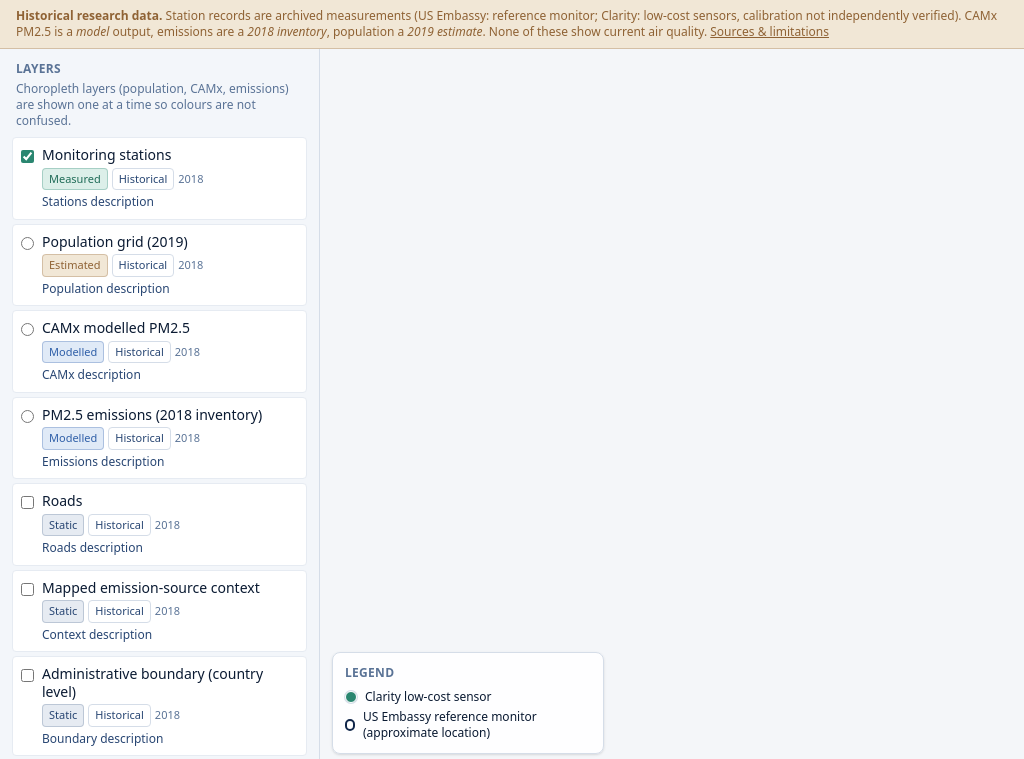
Test: AirQualityMap page › fetches a layer when toggled on and shows its legend, one choropleth at a time
The width and height of the screenshot is (1024, 759).
Later steps or results of the test are not shown.
Expected: the text "CAMx description" is shown, [42, 366, 141, 383]
Click the radio button labelled "Population grid (2019)" at (28, 243), box [21, 236, 34, 250]
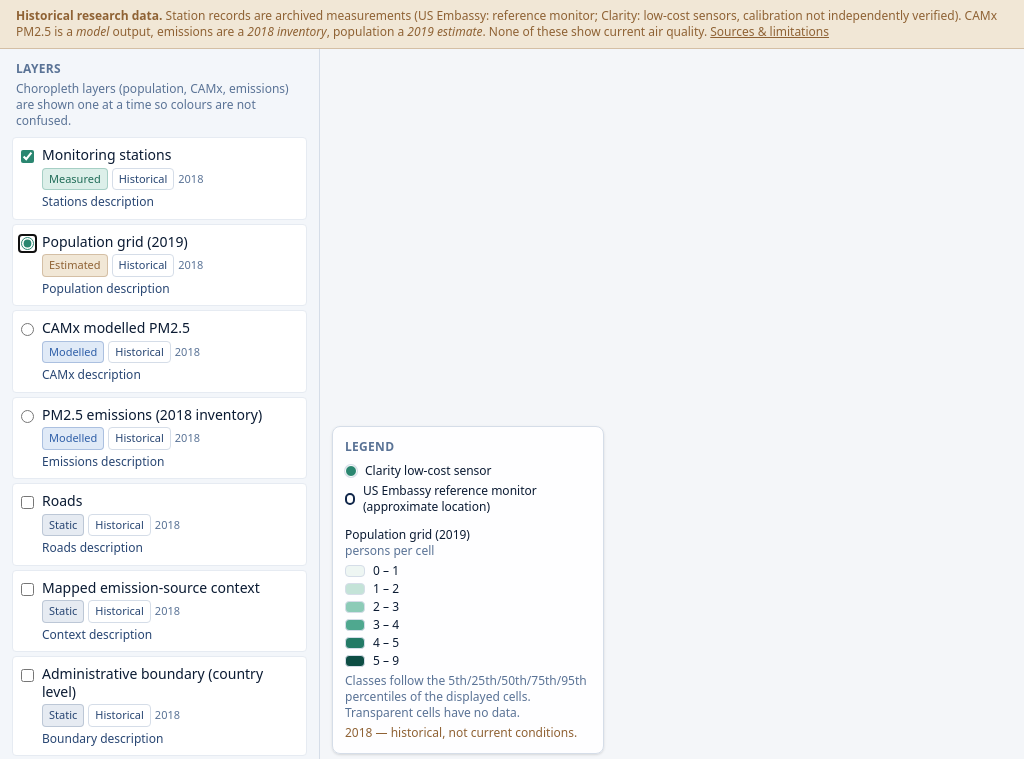
Result: the text "persons per cell" is shown at [345, 542, 434, 559]
Click the radio button labelled "CAMx modelled PM2.5" at (28, 330), box [21, 323, 34, 336]
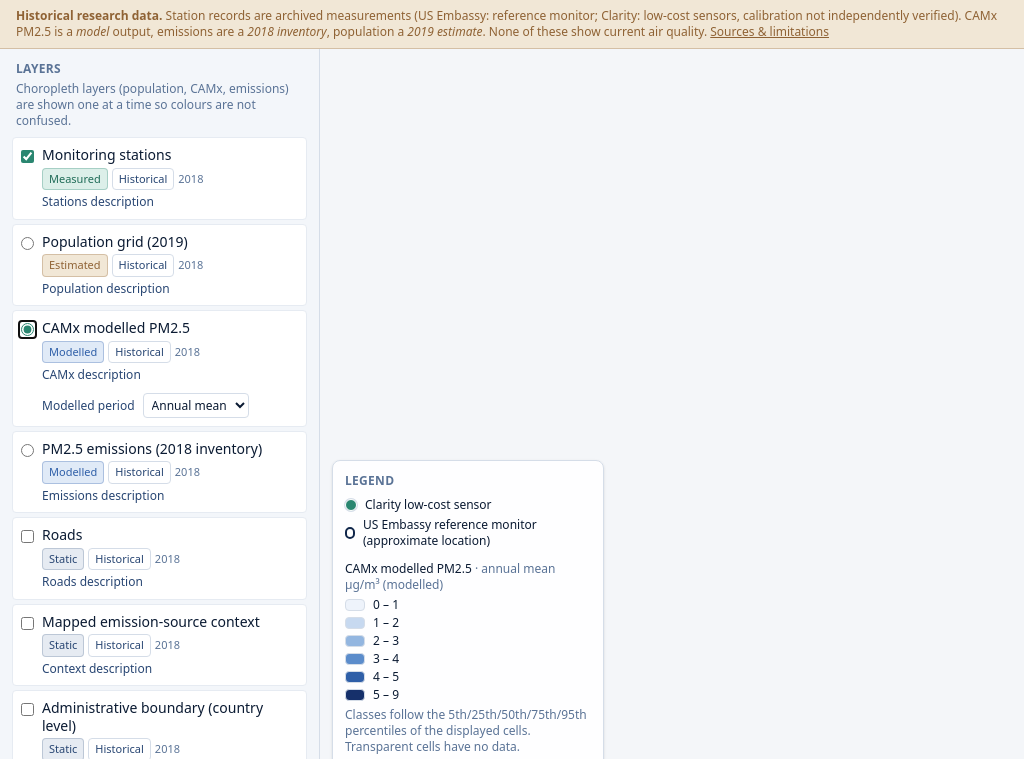
Result: the radio button labelled "Population grid (2019)" is not checked at [21, 236, 34, 250]
